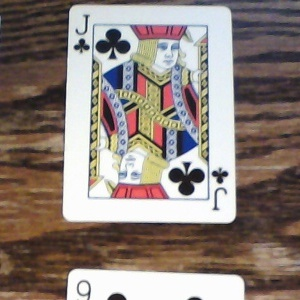card: (62, 5, 238, 223)
